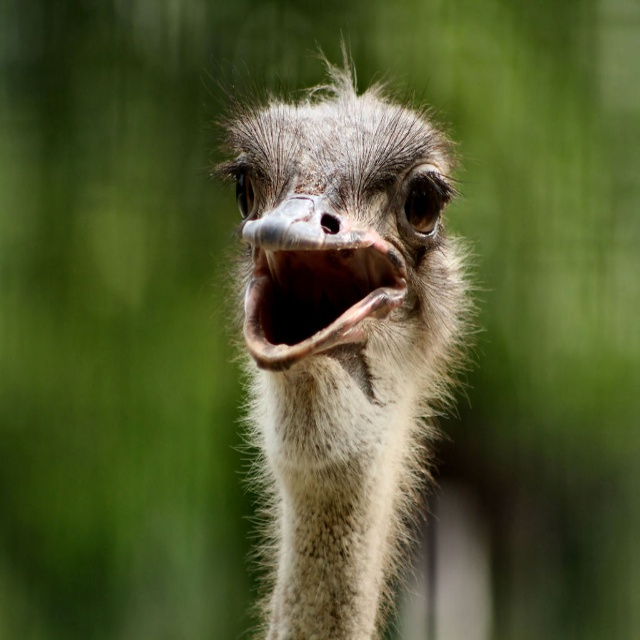Ostrich: (226, 76, 482, 639)
